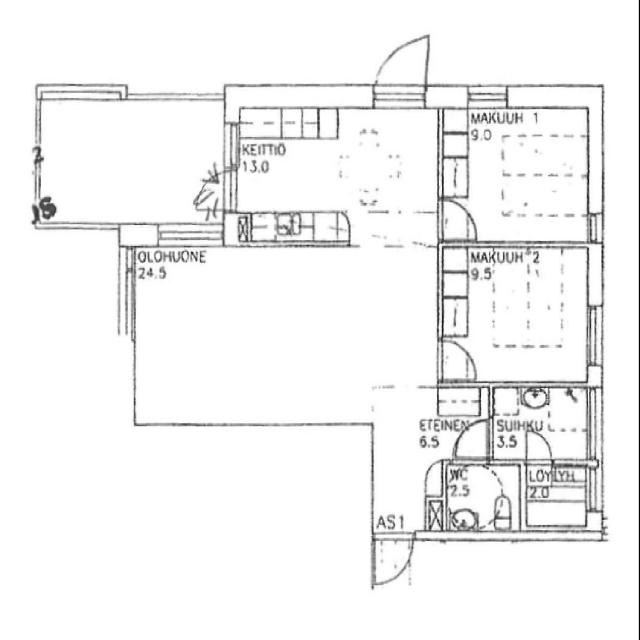door: (371, 36, 428, 108), (372, 532, 416, 590), (451, 417, 492, 464), (438, 337, 478, 384), (439, 196, 477, 244), (523, 428, 554, 466)
window: (156, 223, 224, 250), (582, 300, 607, 371), (371, 84, 428, 114), (127, 88, 216, 107), (44, 219, 116, 235), (30, 157, 46, 211)
zone: (232, 108, 445, 228), (37, 99, 225, 227), (448, 247, 594, 386), (451, 122, 590, 246), (487, 382, 596, 462), (443, 462, 523, 534), (523, 462, 597, 534)
